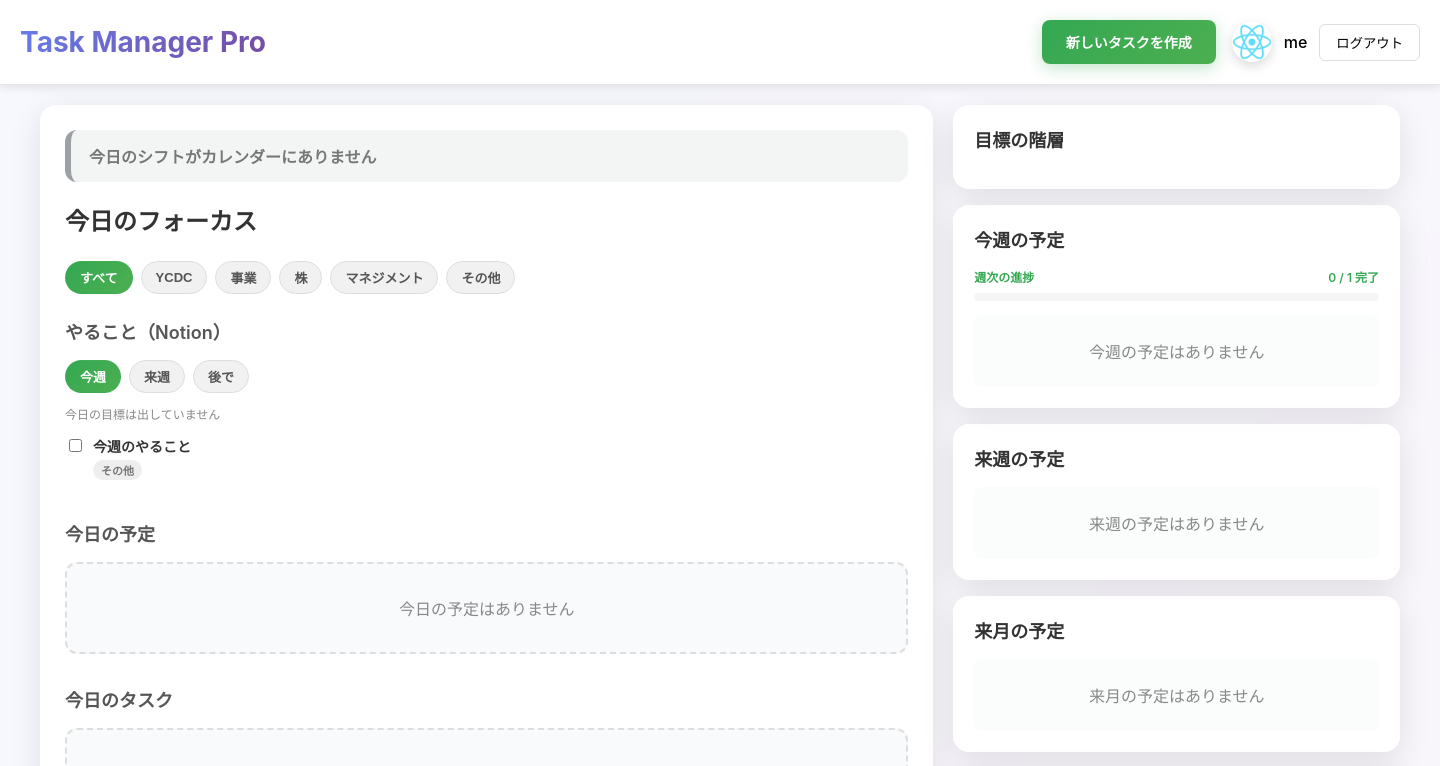
Test: the やること card shows this week's rows by default; 来週 and 後で switch to theirs
The image size is (1440, 766).
Expected: the text "今週のやること" is shown, [93,438,191,455]
Expected: the text "来週のやること" is not shown
Click the button "来週" at (157, 376), box [129,360,185,393]
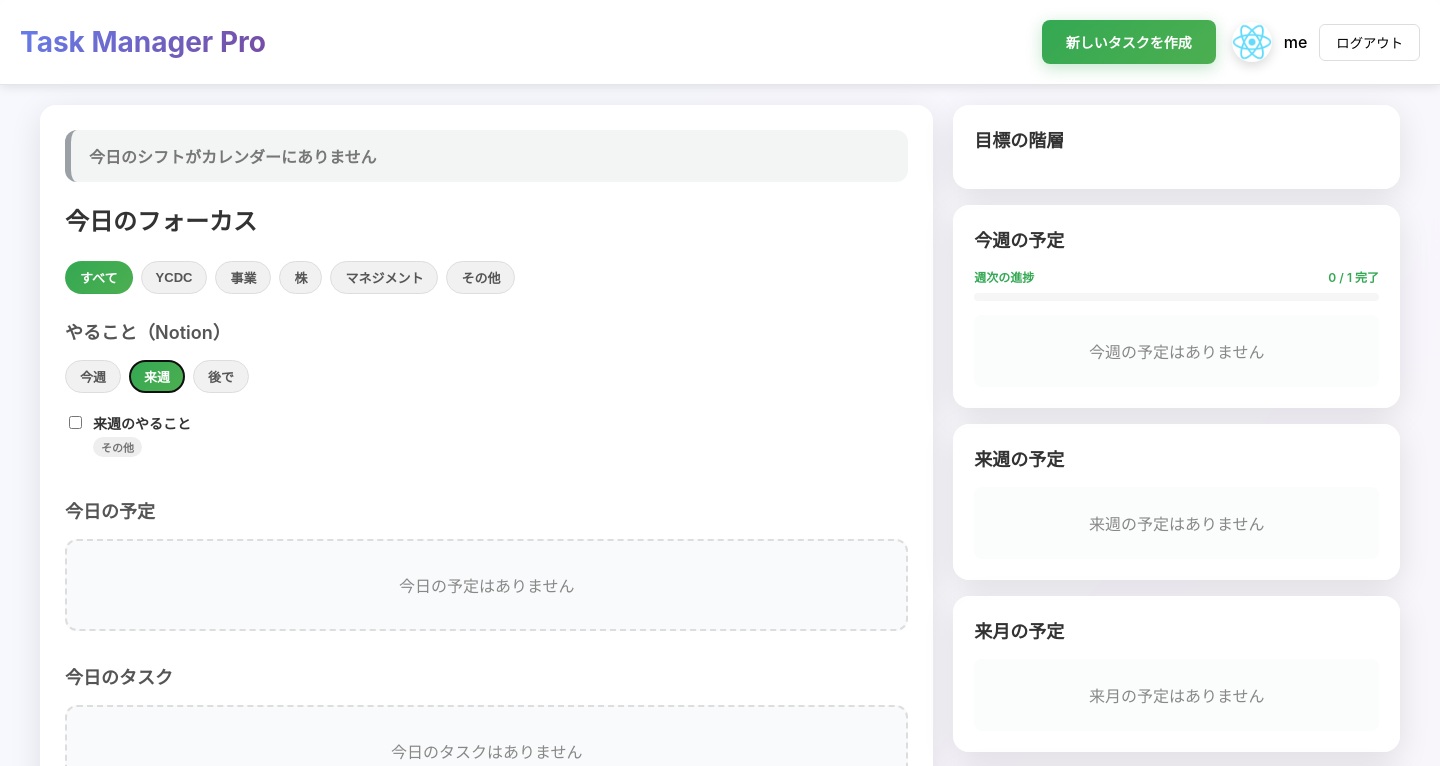
Expected: the text "予定週なしのやること" is not shown
Expected: the button "今週のやること" is gone
Expected: the text "来週のやること" is shown, [93,415,191,432]
Click the button "後で" at (221, 376), box [193,360,249,393]
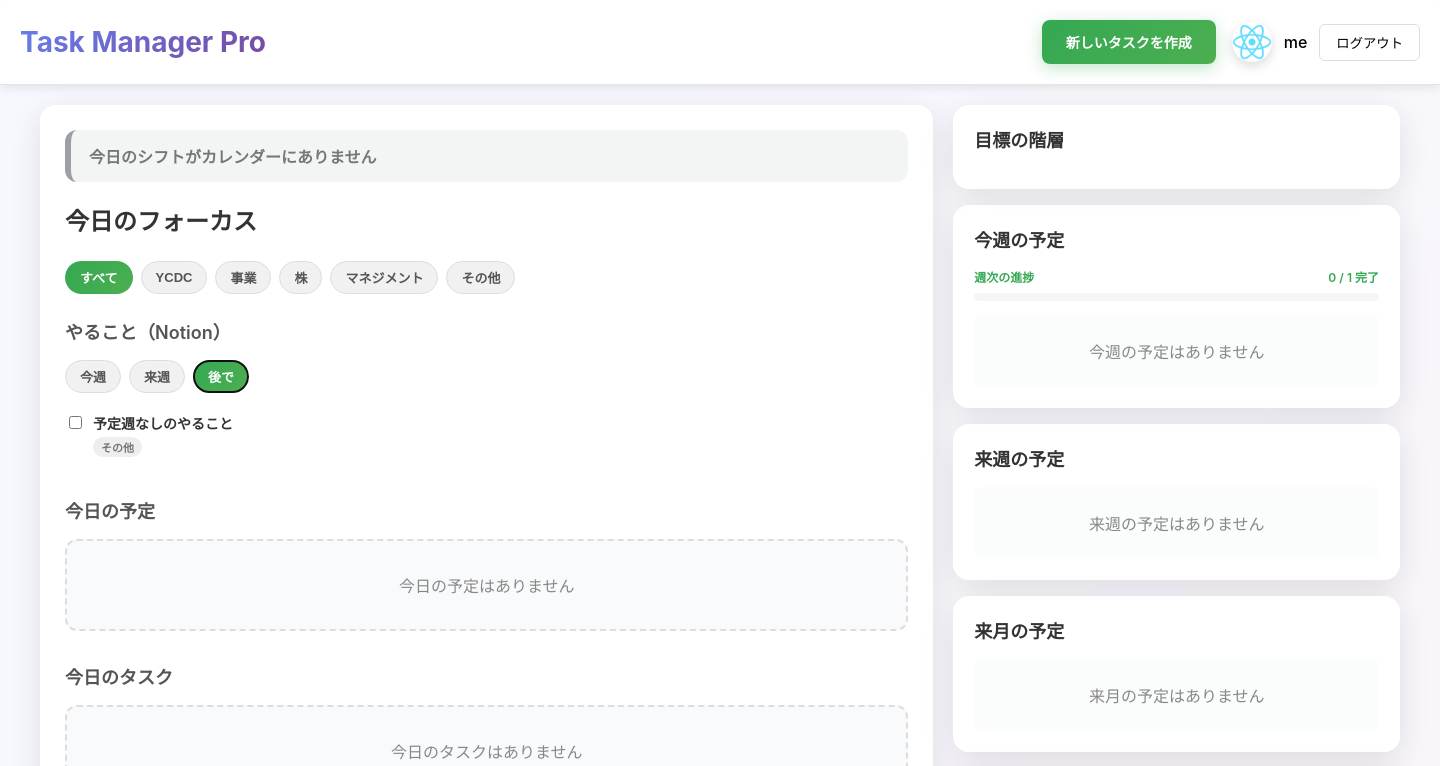
Expected: the button "来週のやること" is gone
Expected: the text "予定週なしのやること" is shown, [93,415,233,432]
Click the button "今週" at (93, 376), box [65,360,121,393]
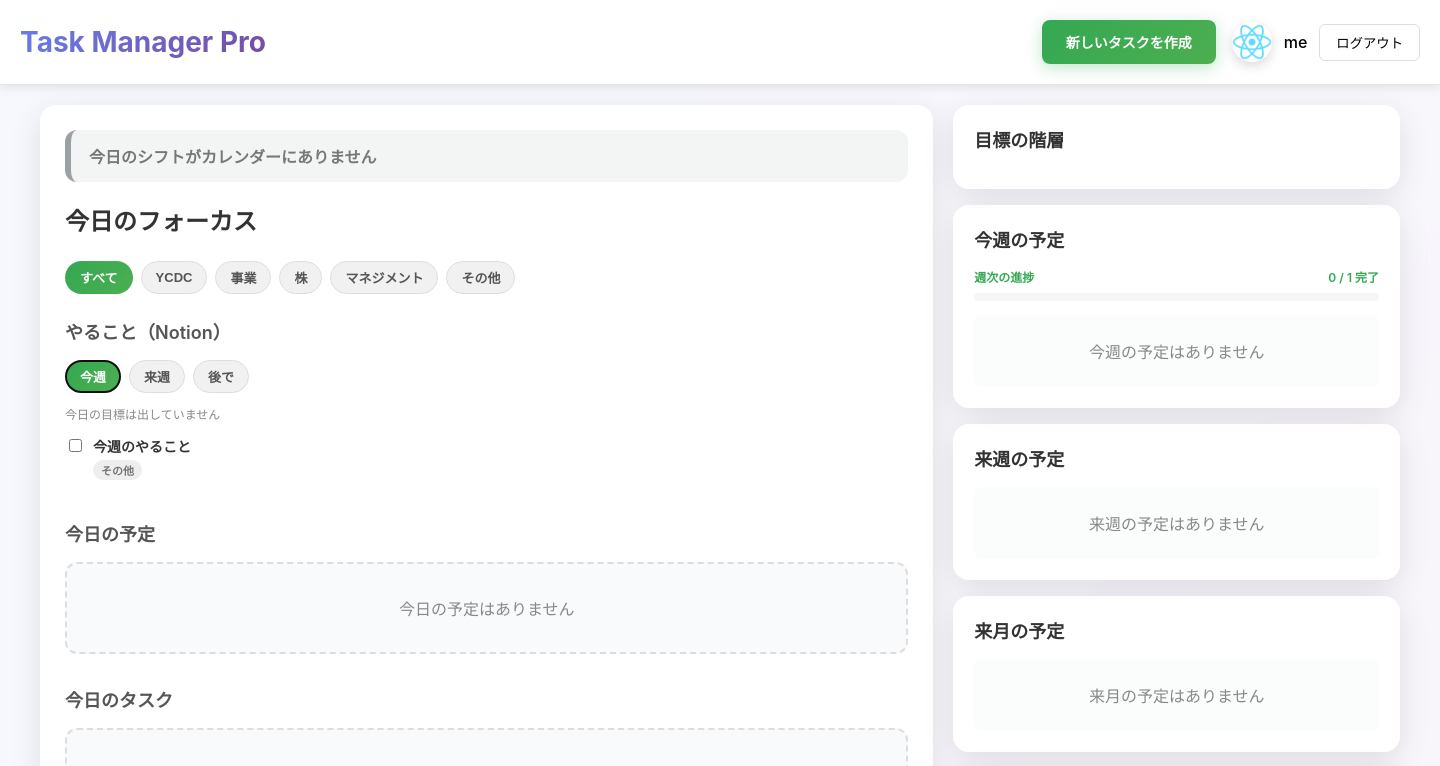
Expected: the text "今週のやること" is shown, [93,438,191,455]
Expected: the button "予定週なしのやること" is gone
